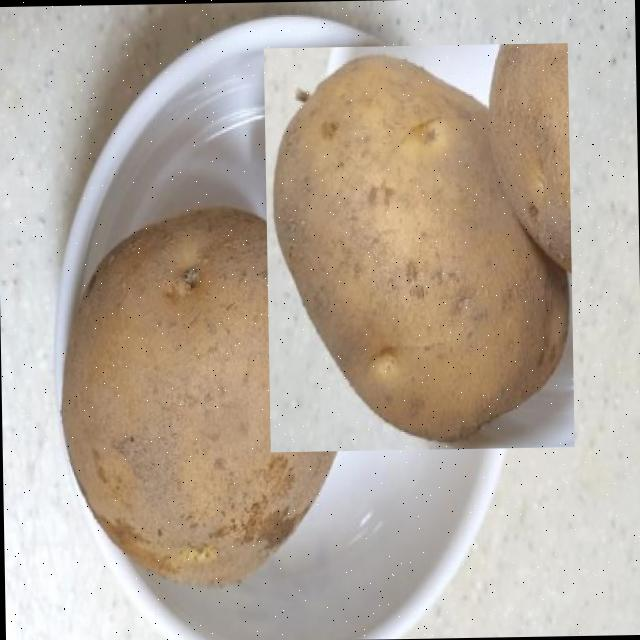Damaged potato: (263, 42, 574, 451), (57, 206, 356, 586)
